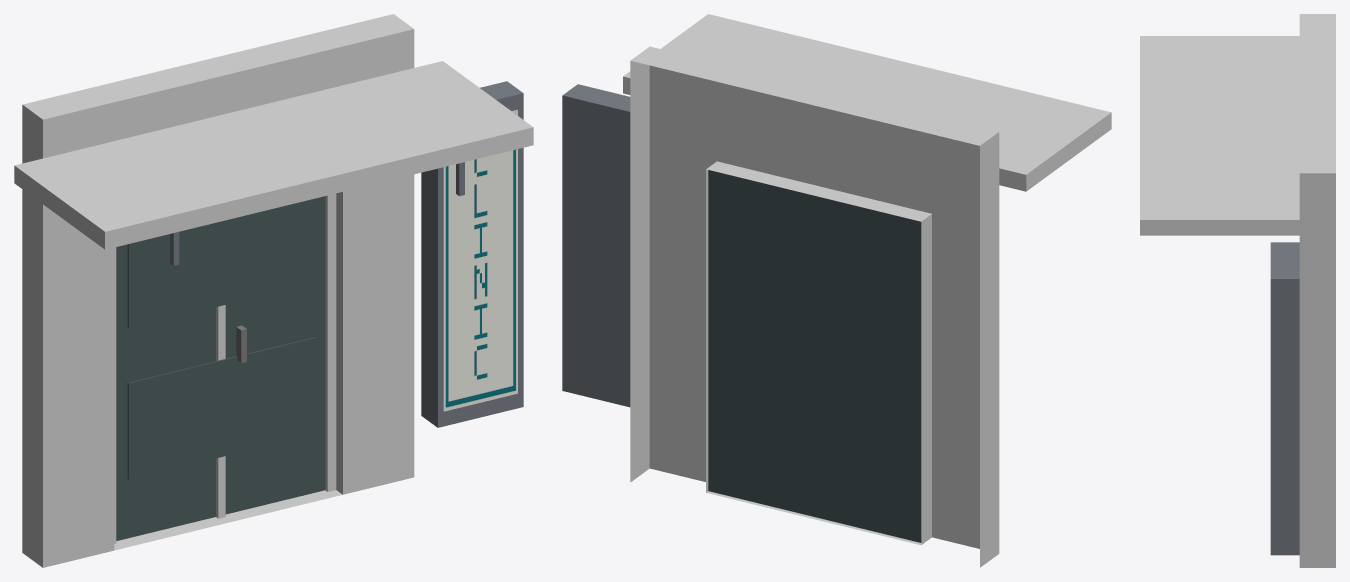
The model's file is entrance_close.fbx.
The picture shows the model from 3 angles, left to right: view 1: azimuth 30°, elevation 25°; view 2: azimuth 150°, elevation 25°; view 3: azimuth 270°, elevation 25°; orthographic projection. The views are drawn at different scales.
Parts seen in each view (by area): view 1: a2009/600/entrance_close; view 2: a2009/600/entrance_close; view 3: a2009/600/entrance_close.
Part boxes in pixels (x1,y1,x2,y2): a2009/600/entrance_close: [14, 14, 533, 567]; a2009/600/entrance_close: [562, 14, 1111, 567]; a2009/600/entrance_close: [1140, 14, 1335, 567].
Size of the model in its own units: 3.45 by 3 by 1.35.
